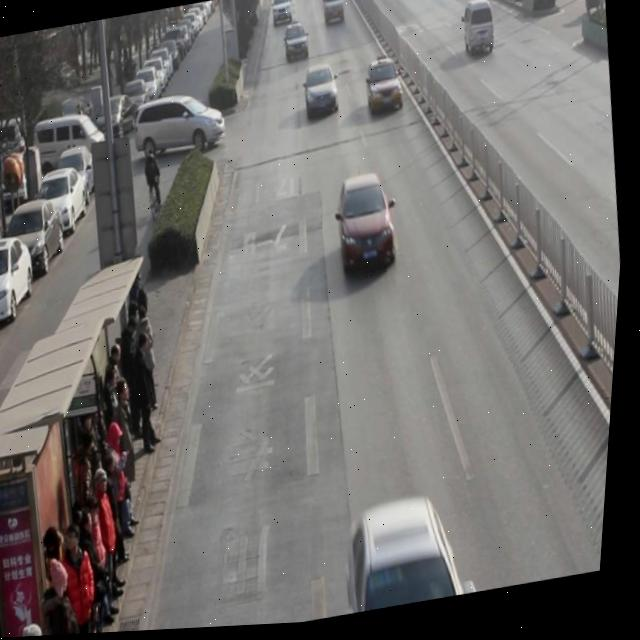car: (344, 491, 480, 618), (334, 170, 407, 279), (363, 58, 410, 120), (303, 63, 345, 121), (283, 22, 314, 64), (270, 0, 296, 29), (319, 0, 342, 19)
truck: (461, 0, 500, 62), (320, 0, 349, 30)
